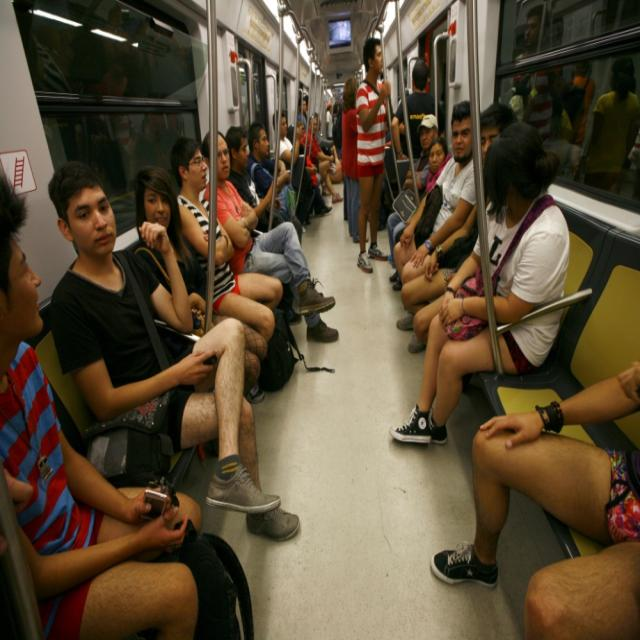body: (45, 154, 304, 545), (46, 158, 258, 538), (386, 118, 572, 447), (429, 356, 640, 640), (396, 100, 526, 356), (133, 165, 269, 399), (200, 130, 340, 344), (169, 134, 285, 344), (508, 3, 636, 163), (392, 99, 476, 287), (72, 60, 185, 150), (355, 35, 393, 276), (386, 112, 440, 269), (245, 119, 303, 248), (286, 94, 341, 210), (225, 125, 284, 233), (391, 59, 444, 161), (272, 109, 316, 228), (341, 76, 362, 245), (425, 135, 451, 192), (341, 98, 348, 223), (331, 100, 340, 147), (324, 102, 334, 141), (382, 113, 392, 151)
